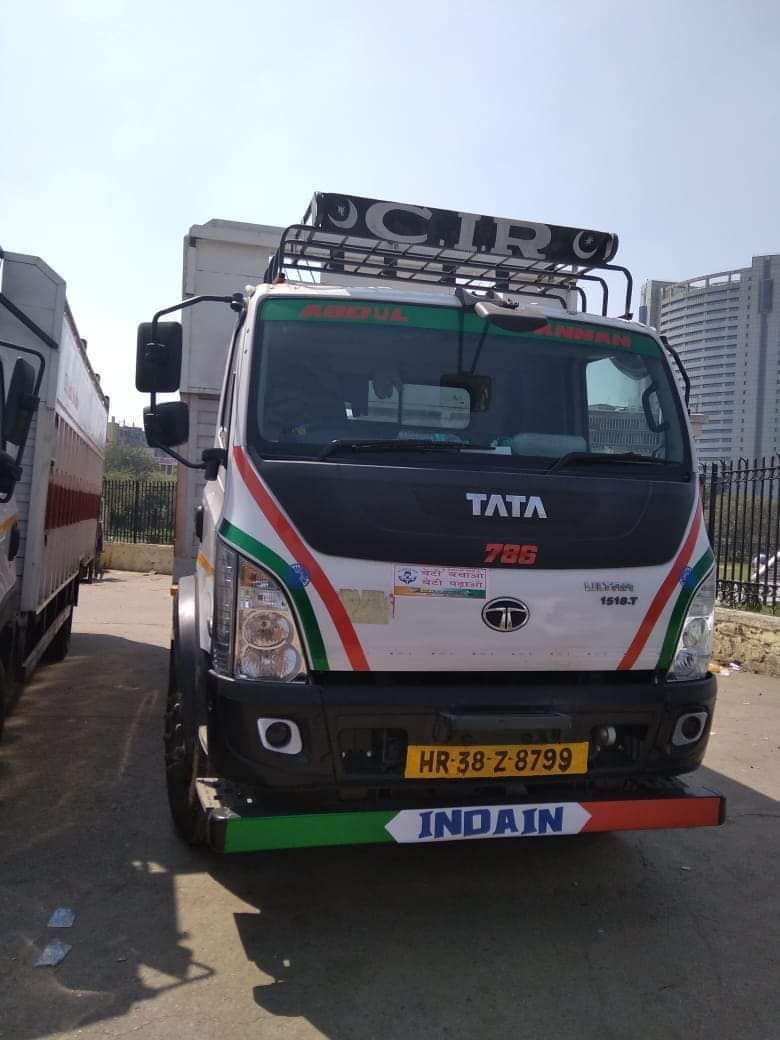numberplate: (400, 737, 596, 780)
